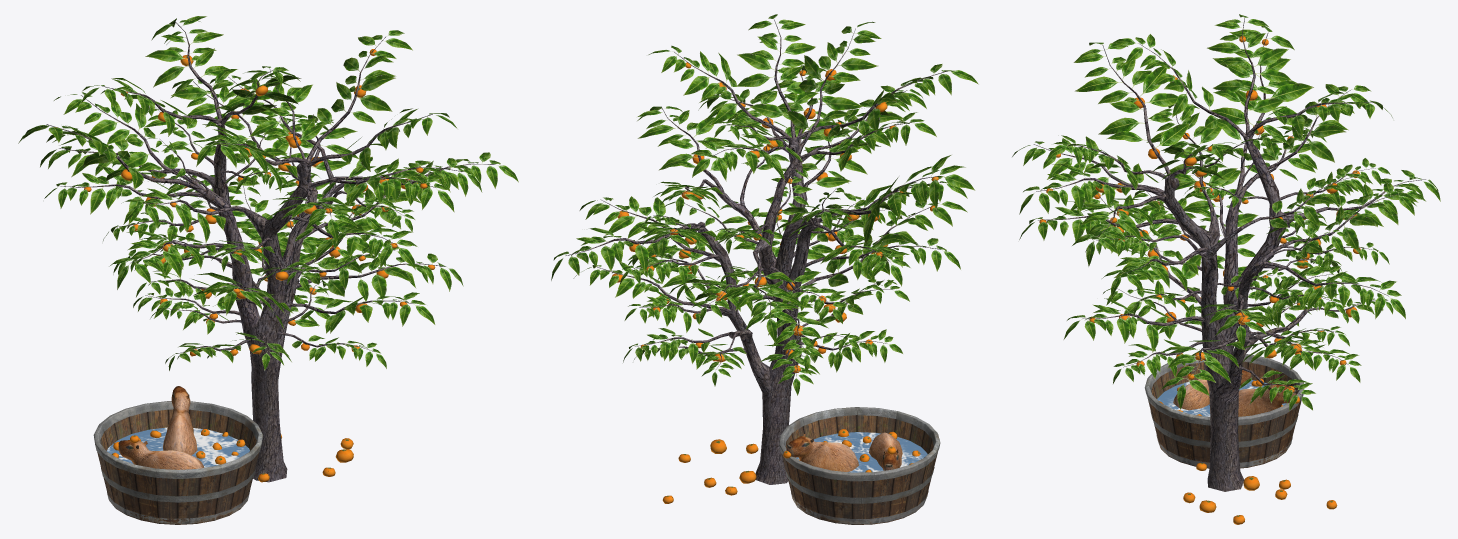
File: Bucket.fbx
3 views of the same model, side by side, from view 1: azimuth 30°, elevation 25°; view 2: azimuth 150°, elevation 25°; view 3: azimuth 270°, elevation 25° (orthographic). The views are drawn at different scales.
Parts seen in each view (by area): view 1: ClementineTree, Capybara Pool; view 2: ClementineTree, Capybara Pool; view 3: ClementineTree, Capybara Pool.
Part boxes in pixels (x1,y1,x2,y2): ClementineTree: (18, 16, 518, 482); Capybara Pool: (93, 386, 263, 524); ClementineTree: (551, 14, 978, 503); Capybara Pool: (779, 407, 940, 524); ClementineTree: (1012, 14, 1440, 524); Capybara Pool: (1144, 354, 1304, 468).
Size of the model in its own units: 512 by 516 by 478.
